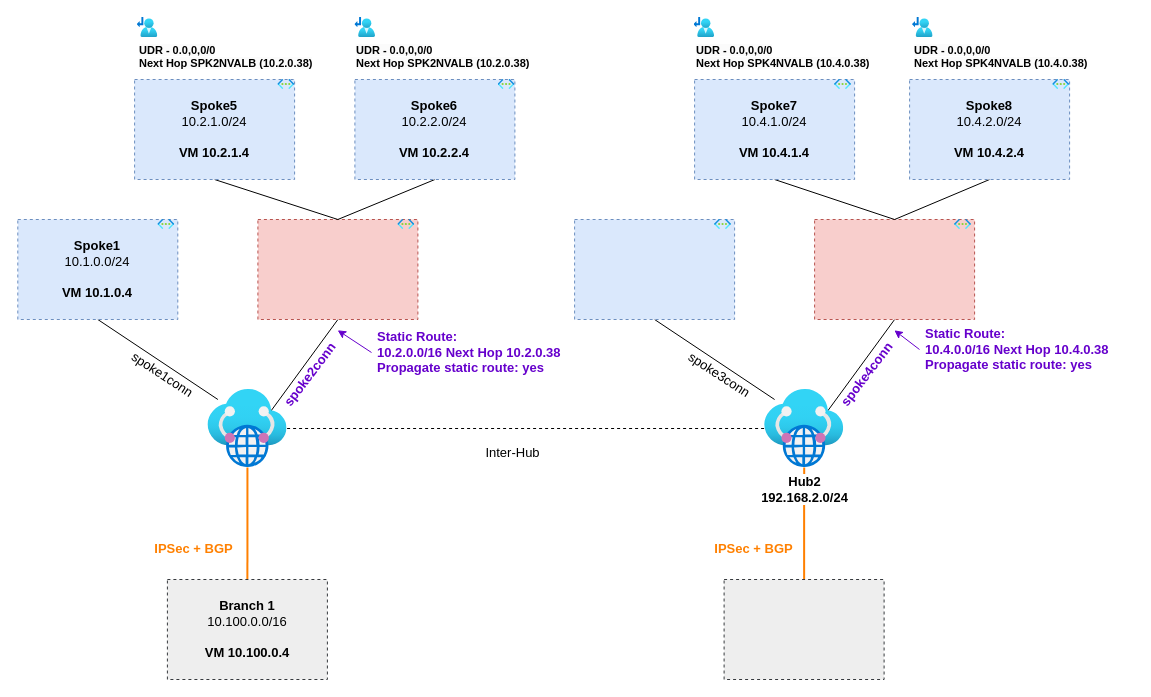
The diagram is 1151 pixels wide and 697 high, and some of its shapes have lost their labels. Here are the shapes that lost their labels. From the top down, the centre of each, then its label:
At (x=337, y=269): "Spoke2 10.2.0.0/24 SPK2NVALB 10.2.0.38".
At (x=654, y=269): "Spoke3 10.3.0.0/24 VM 10.3.0.4".
At (x=894, y=269): "Spoke4 10.4.0.0/24 SPK4NVALB 10.4.0.38".
At (x=247, y=428): "Hub1 192.168.1.0/24".
At (x=803, y=629): "Branch 2 10.100.0.0/16 VM 10.200.0.4".
